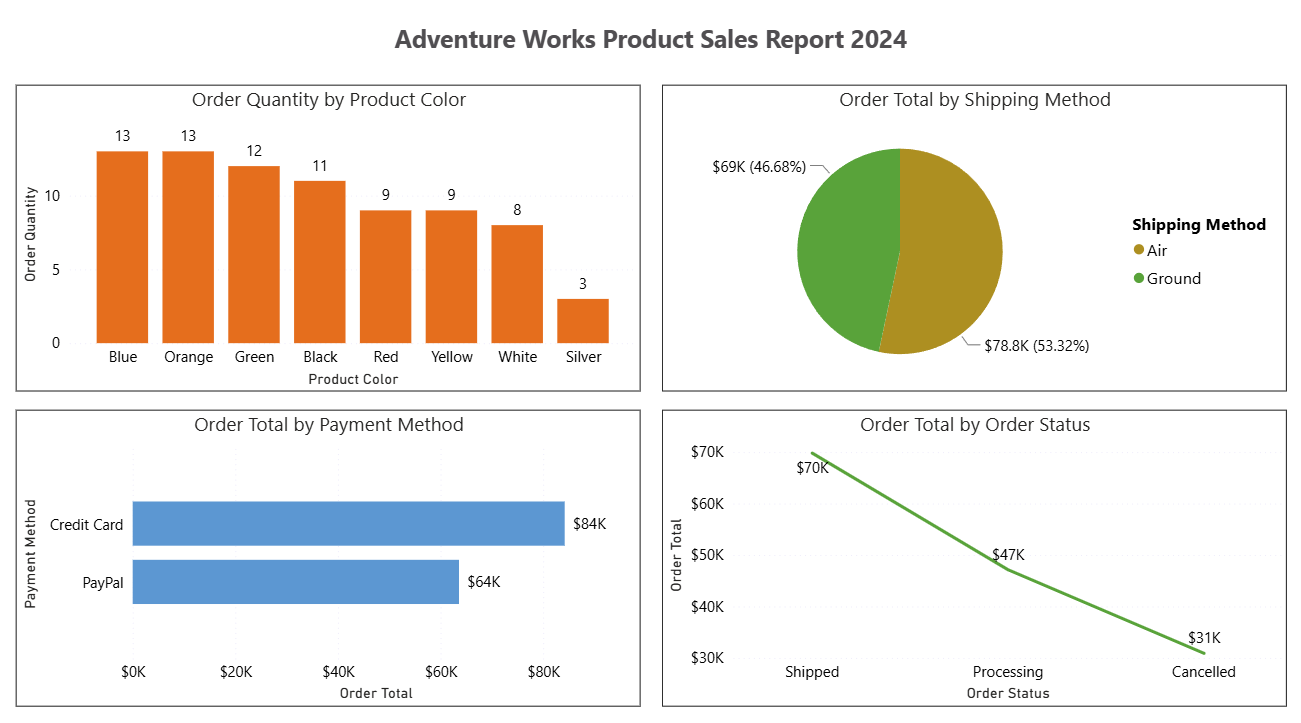

This screenshot's page, from the dashboard's own definition file:
{"tool":"powerbi","page":{"name":"Product Sales Report - Page 2","canvas":[1280,720],"ordinal":1},"visuals":[{"type":"textbox","box":[18.4,21.4,1243.3,50.5],"z":0},{"type":"clusteredColumnChart","fields":{"Category":["Sales.Product Color"],"Y":["Sum(Sales.Order Quantity)"]},"box":[18.6,91.4,611.4,300],"z":1000},{"type":"pieChart","fields":{"Category":["Sales.Shipping Method"],"Y":["Sum(Sales.Order Total)"]},"box":[650,91.4,611.4,300],"z":2000},{"type":"clusteredBarChart","fields":{"Y":["Sum(Sales.Order Total)"],"Category":["Sales.Payment Method"]},"box":[18.6,410,611.4,290],"z":3000},{"type":"lineChart","fields":{"Category":["Sales.Order Status"],"Y":["Sum(Sales.Order Total)"]},"box":[650,410,611.4,290],"z":4000},{"type":"textbox","box":[338.4,26,601.7,47.5],"z":5000}]}

Visuals, with their boxes in screenshot pixels (x1, y1, x2, y2), scaled from the page's 1280x720 canvas onto the 1301x723 screenshot:
textbox: [x1=19, y1=21, x2=1282, y2=72]
clusteredColumnChart - Sales.Product Color x Sum(Sales.Order Quantity): [x1=19, y1=92, x2=640, y2=393]
pieChart - Sales.Shipping Method x Sum(Sales.Order Total): [x1=661, y1=92, x2=1282, y2=393]
clusteredBarChart - Sum(Sales.Order Total) x Sales.Payment Method: [x1=19, y1=412, x2=640, y2=703]
lineChart - Sales.Order Status x Sum(Sales.Order Total): [x1=661, y1=412, x2=1282, y2=703]
textbox: [x1=344, y1=26, x2=956, y2=74]
